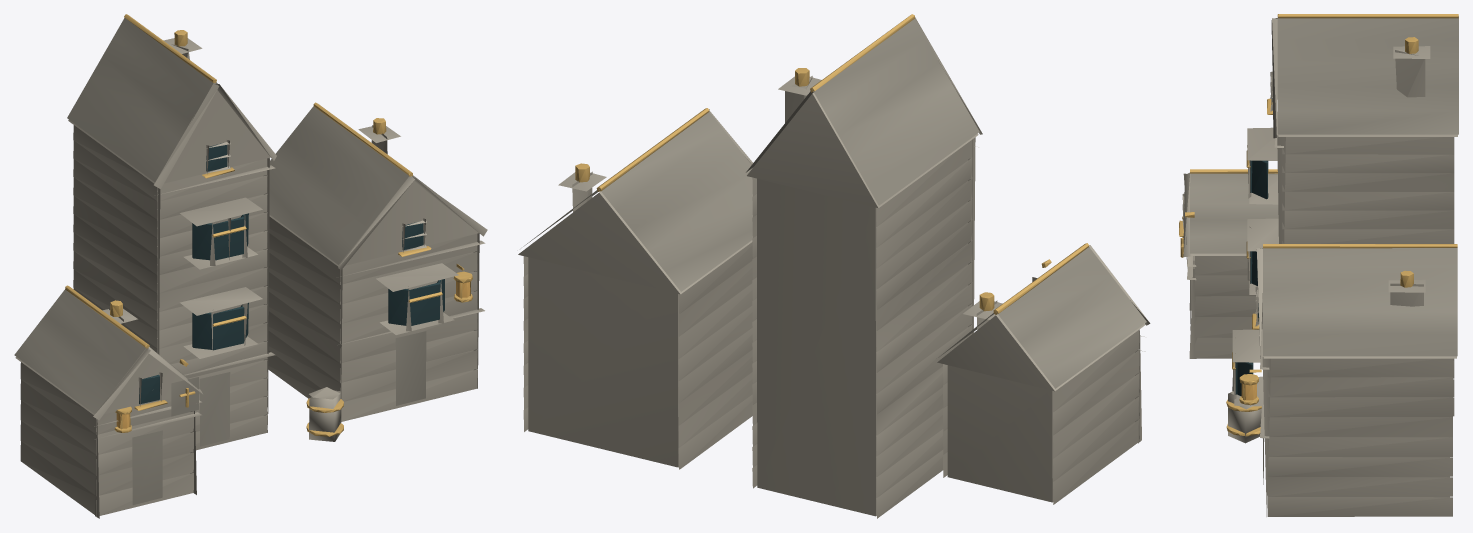
The model's file is pirate_town.glb.
3 renders of one model, left to right at view 1: azimuth 30°, elevation 25°; view 2: azimuth 150°, elevation 25°; view 3: azimuth 270°, elevation 25°, orthographic. The views are drawn at different scales.
Parts seen in each view (by area): view 1: WoodBody, FixedDetails, BrassTrim; view 2: WoodBody, BrassTrim; view 3: WoodBody, BrassTrim, FixedDetails.
Boxes of the visible parts, bbox=[...] form: WoodBody: bbox=[14, 18, 487, 518]; FixedDetails: bbox=[116, 143, 470, 428]; BrassTrim: bbox=[65, 14, 472, 436]; WoodBody: bbox=[518, 17, 1150, 518]; BrassTrim: bbox=[575, 14, 1089, 314]; WoodBody: bbox=[1182, 16, 1458, 516]; BrassTrim: bbox=[1179, 14, 1458, 436]; FixedDetails: bbox=[1234, 98, 1272, 400].
Bounding box in the file's own units: 0.4511 × 0.3721 × 0.25.
